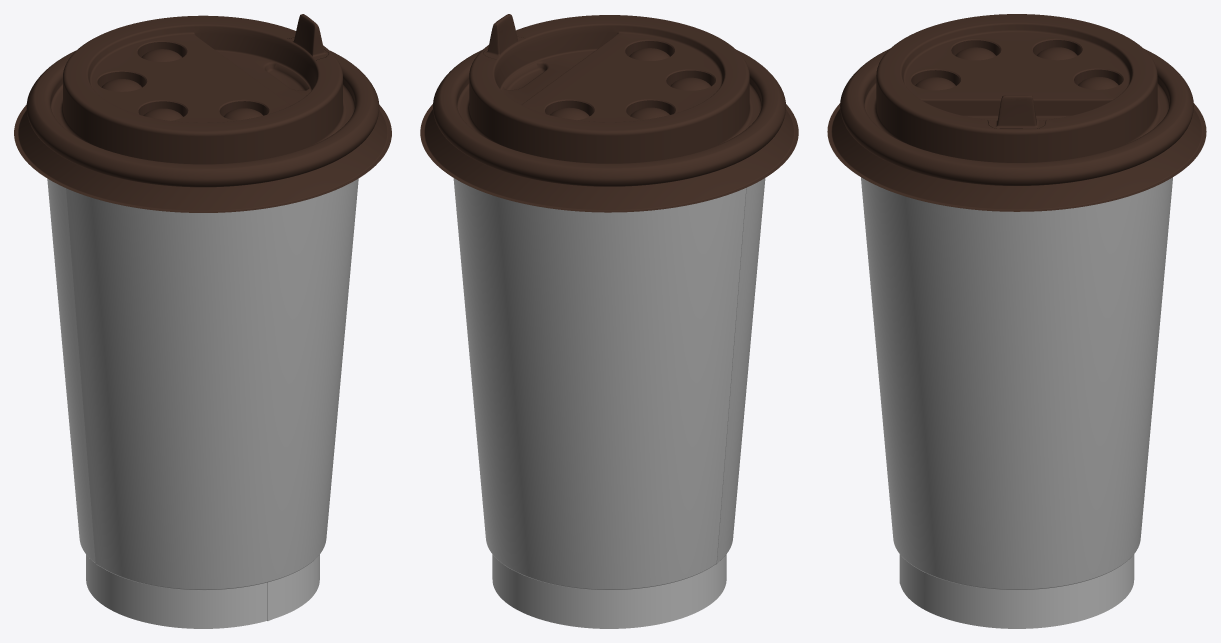
3 views of the same model, side by side, from view 1: azimuth 30°, elevation 25°; view 2: azimuth 150°, elevation 25°; view 3: azimuth 270°, elevation 25° (orthographic).
Visible parts, largest first — view 1: cup vkusnoitochka_cup vkusnoitochka 1_0, cup vkusnoitochka_cup vkusnoitochka 2 cup up_0; view 2: cup vkusnoitochka_cup vkusnoitochka 1_0, cup vkusnoitochka_cup vkusnoitochka 2 cup up_0; view 3: cup vkusnoitochka_cup vkusnoitochka 1_0, cup vkusnoitochka_cup vkusnoitochka 2 cup up_0.
Part boxes in pixels (box(x1,y1,x2,y2)): cup vkusnoitochka_cup vkusnoitochka 1_0: box(47, 178, 358, 628); cup vkusnoitochka_cup vkusnoitochka 2 cup up_0: box(14, 14, 391, 212); cup vkusnoitochka_cup vkusnoitochka 1_0: box(453, 178, 765, 628); cup vkusnoitochka_cup vkusnoitochka 2 cup up_0: box(420, 14, 798, 212); cup vkusnoitochka_cup vkusnoitochka 1_0: box(861, 177, 1172, 628); cup vkusnoitochka_cup vkusnoitochka 2 cup up_0: box(827, 14, 1206, 211).
Bounding box in the file's own units: 0.0924 × 0.1443 × 0.0924.
